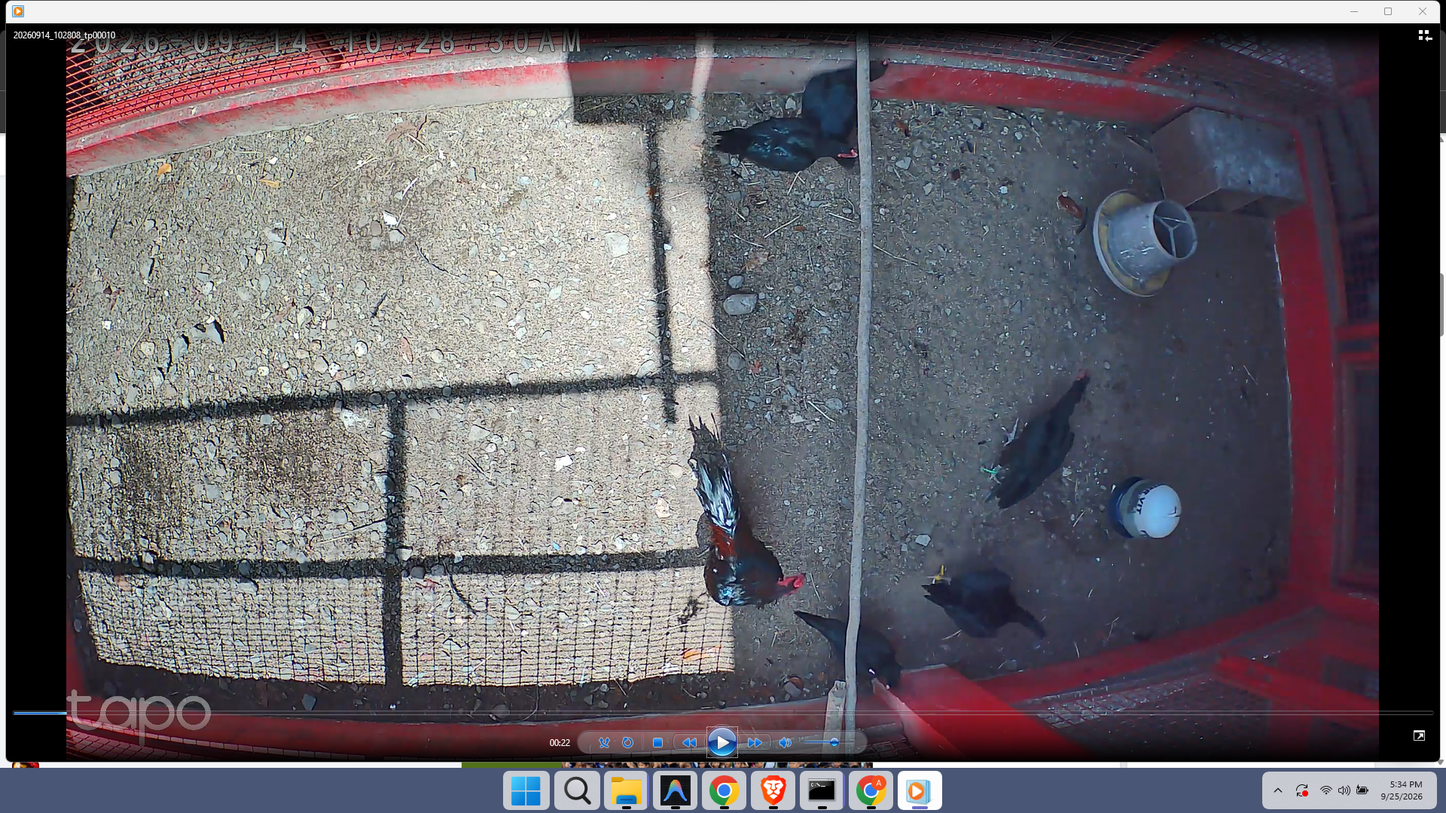Chicken: (979, 365, 1092, 515), (917, 568, 1047, 647), (790, 608, 904, 691), (705, 116, 862, 172), (800, 59, 890, 144)
Drinker: (1109, 475, 1184, 542)
Feeder: (1089, 189, 1197, 301)
Rooster: (694, 448, 810, 609)
